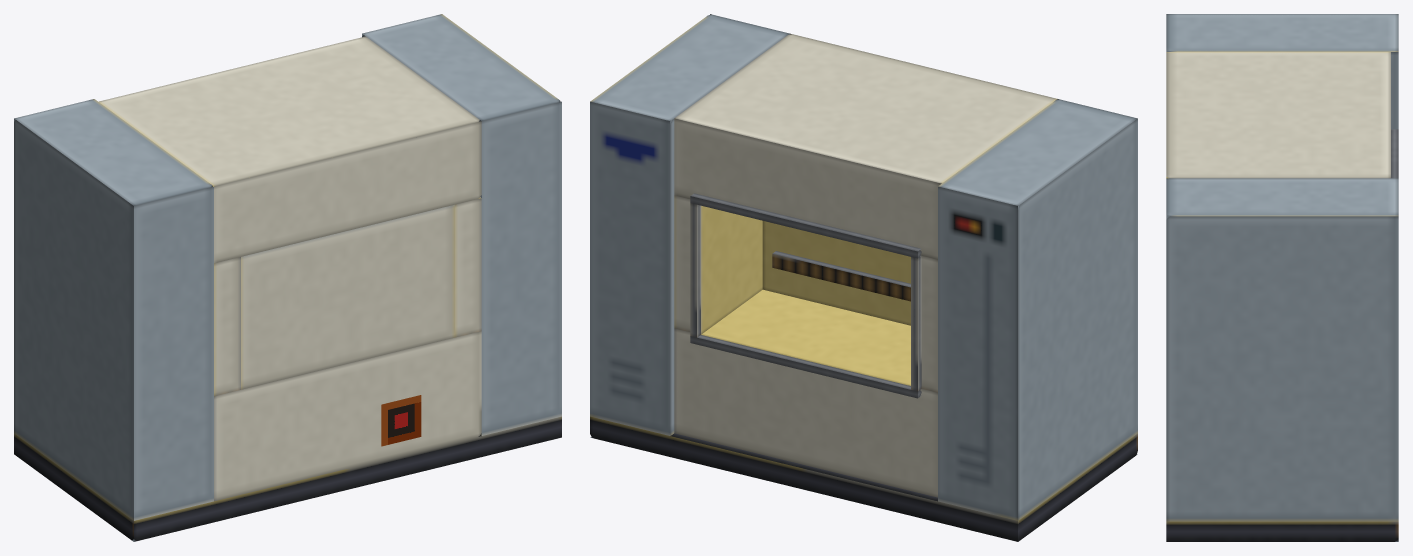
File: era2_drum_bank_double_sided.obj
3 renders of one model, left to right at view 1: azimuth 30°, elevation 25°; view 2: azimuth 150°, elevation 25°; view 3: azimuth 270°, elevation 25°, orthographic. The views are drawn at different scales.
Visible parts, largest first — view 1: era2_drum_bank; view 2: era2_drum_bank; view 3: era2_drum_bank.
Part boxes in pixels (bbox=[...]): era2_drum_bank: bbox=[14, 14, 561, 541]; era2_drum_bank: bbox=[590, 14, 1137, 541]; era2_drum_bank: bbox=[1166, 14, 1398, 541].
Size of the model in its own units: 4 by 3 by 1.94.
